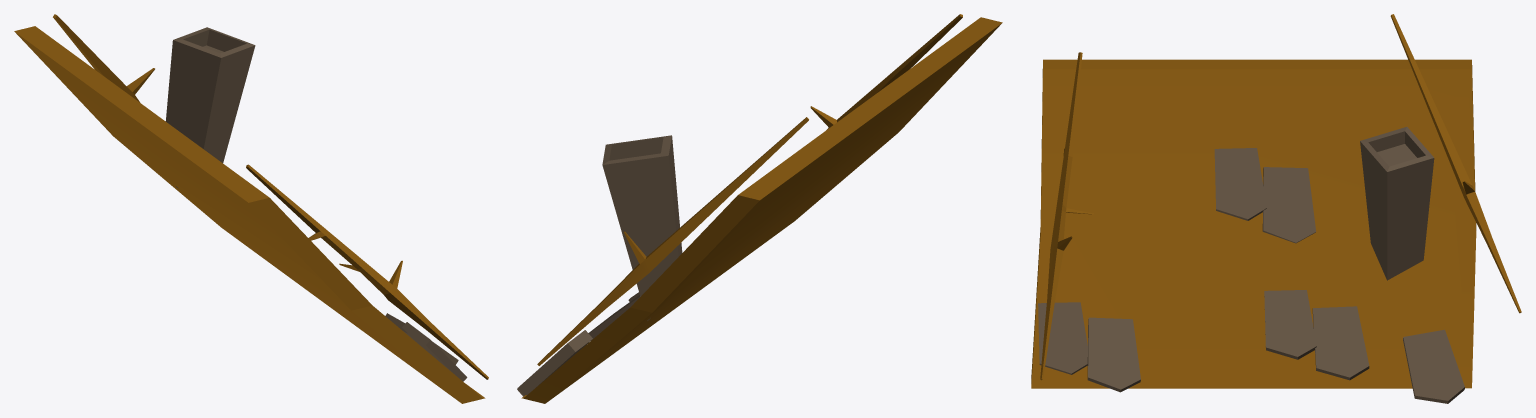
File: BirdHouse_Roof-L.fbx
The picture shows the model from 3 angles, left to right: view 1: azimuth 30°, elevation 25°; view 2: azimuth 150°, elevation 25°; view 3: azimuth 270°, elevation 25°; orthographic projection. The views are drawn at different scales.
Visible parts, largest first — view 1: DachLinks; view 2: DachLinks; view 3: DachLinks.
Part boxes in pixels (left/top/right/bottom): DachLinks: left=14, top=14, right=488, bottom=403; DachLinks: left=517, top=14, right=1002, bottom=403; DachLinks: left=1031, top=14, right=1521, bottom=403.
Size of the model in its own units: 362 by 424 by 668.
